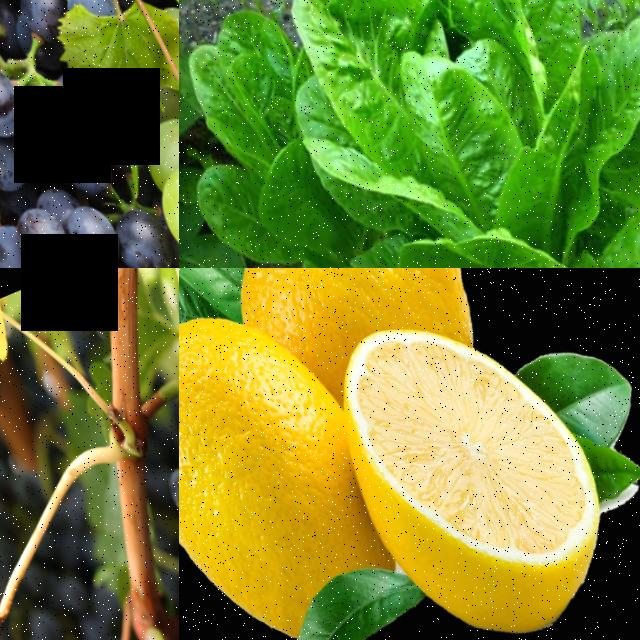grapes: (0, 54, 179, 268), (0, 50, 60, 268)
lemon: (301, 290, 640, 640), (179, 269, 371, 624), (218, 268, 488, 382)
lettuce: (246, 0, 640, 268), (179, 0, 381, 268)
